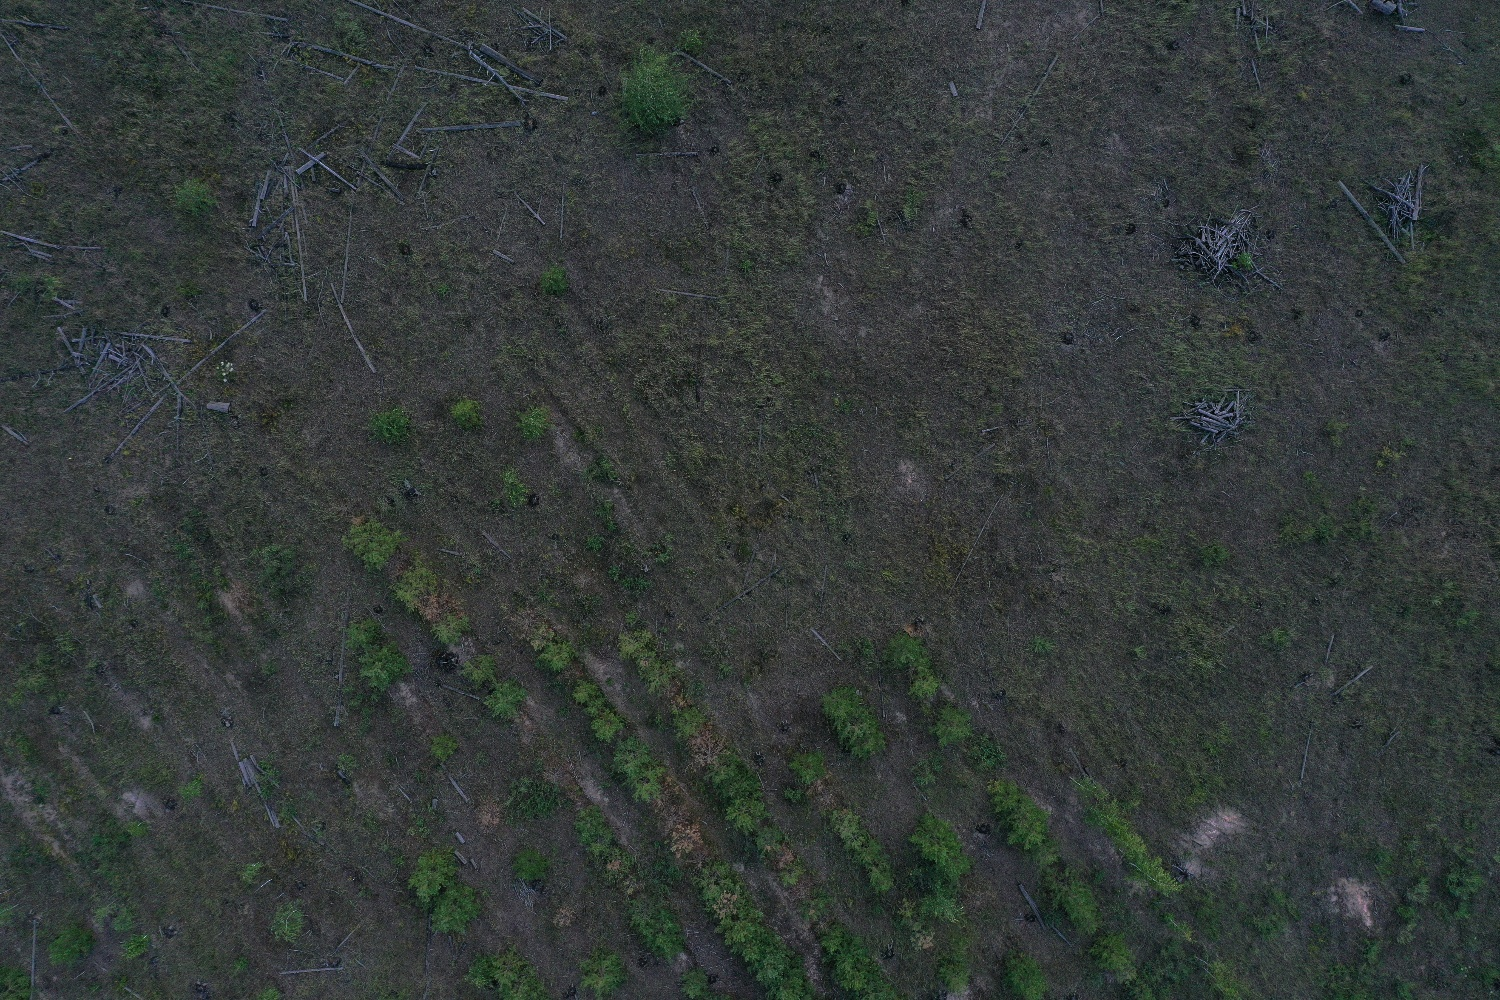branches: (1175, 204, 1281, 289), (1167, 391, 1254, 451), (1362, 174, 1426, 240)
